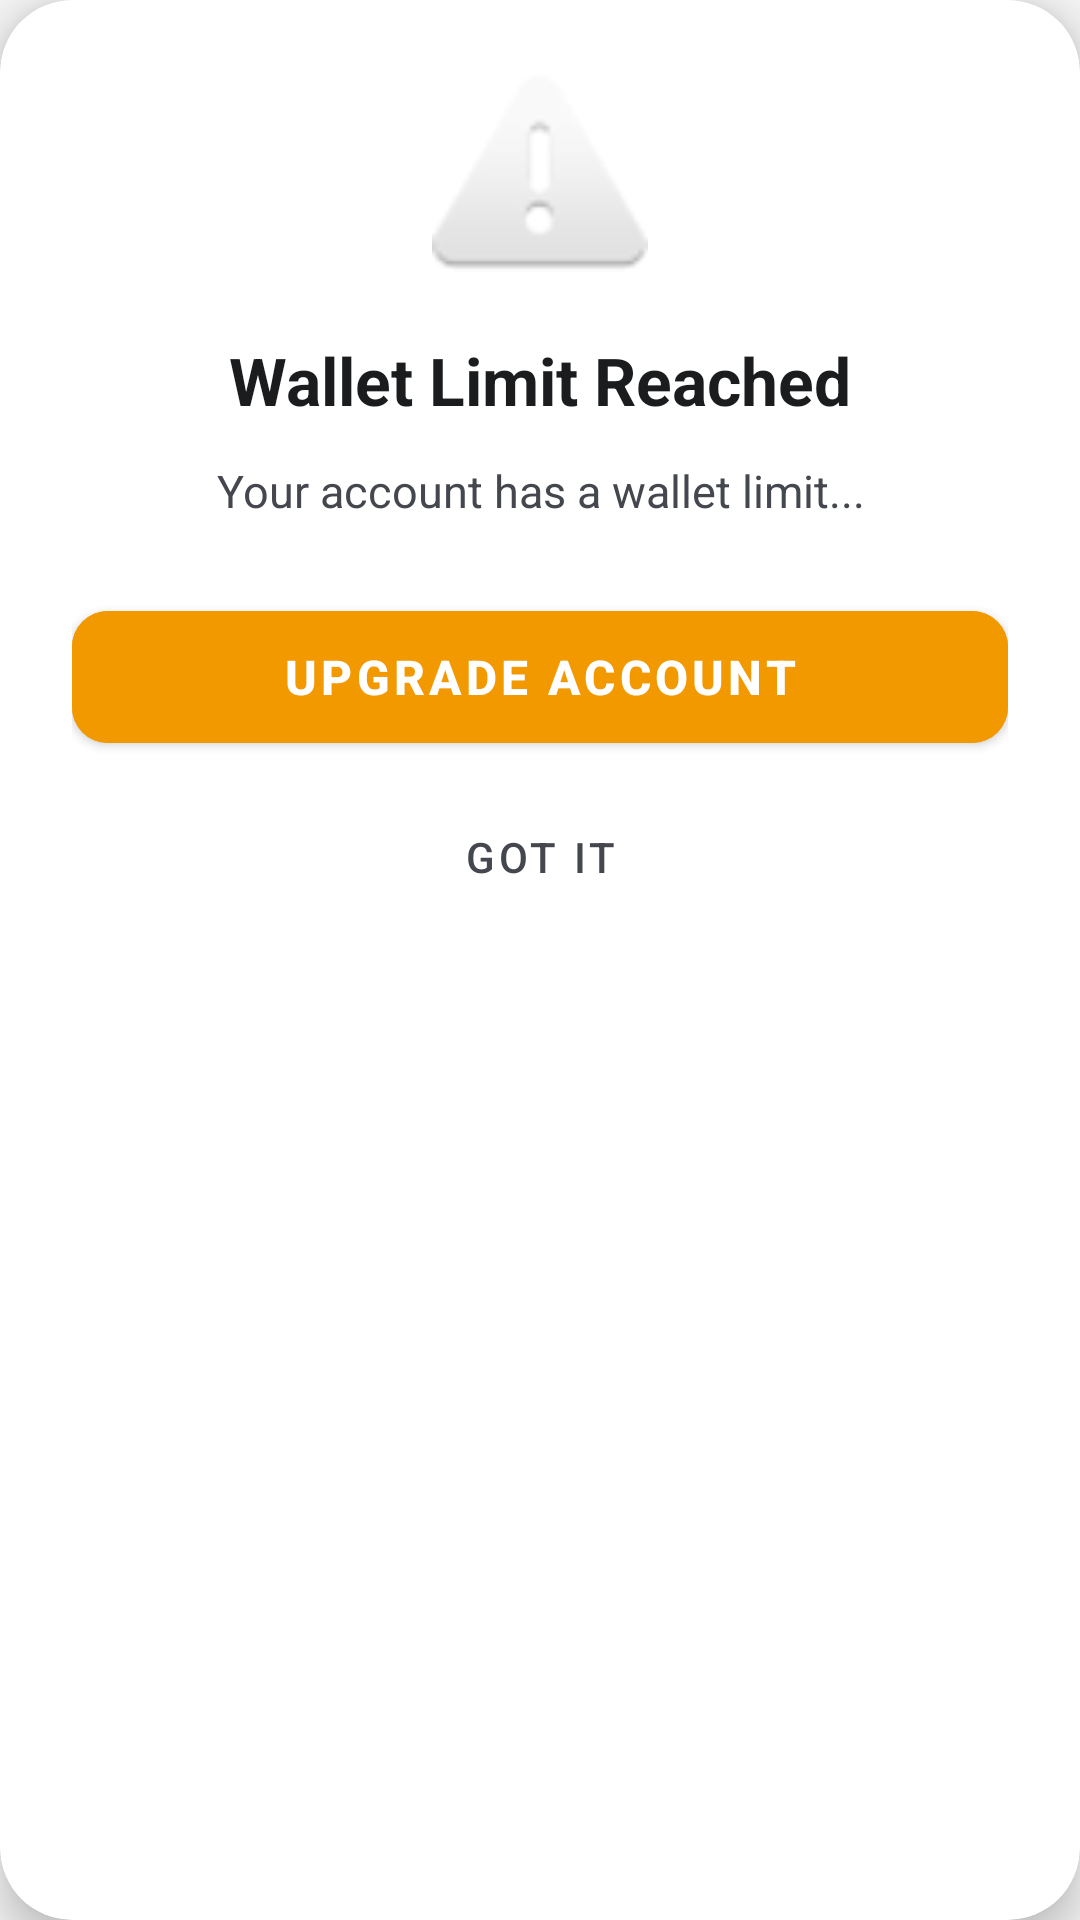

Point at icon controls on the screen. Image size 1080px x 1920px, points as (x,y).
alert: (540,195)
